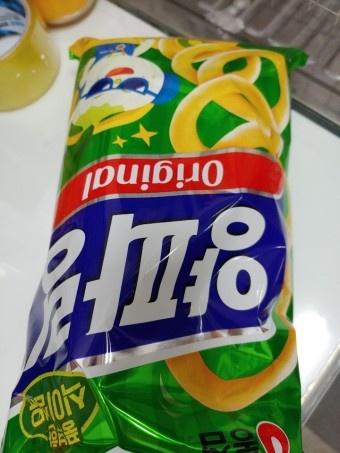snack: (0, 36, 310, 453)
